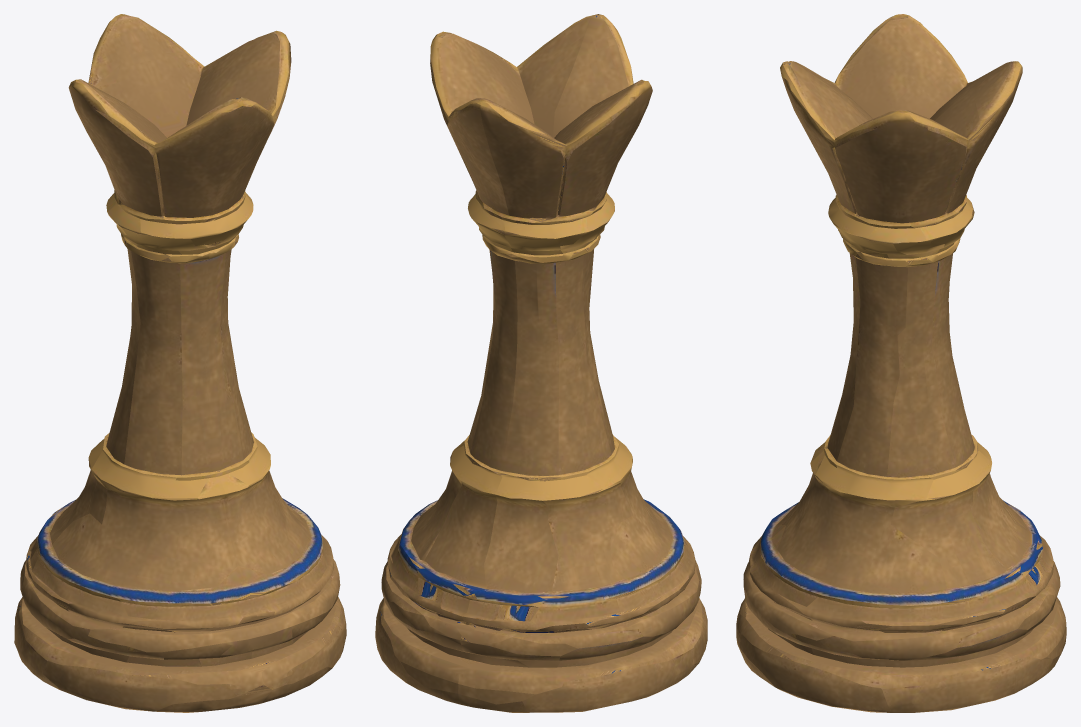
3 renders of one model, left to right at view 1: azimuth 30°, elevation 25°; view 2: azimuth 150°, elevation 25°; view 3: azimuth 270°, elevation 25°, orthographic.
Visible parts, largest first — view 1: world; view 2: world; view 3: world.
Part boxes in pixels (x1,y1,x2,y2): world: (14, 14, 346, 712); world: (375, 14, 707, 712); world: (736, 14, 1066, 712).
Bounding box in the file's own units: 0.5152 × 1 × 0.5153.
Materials: 1 (1 with a texture image).
